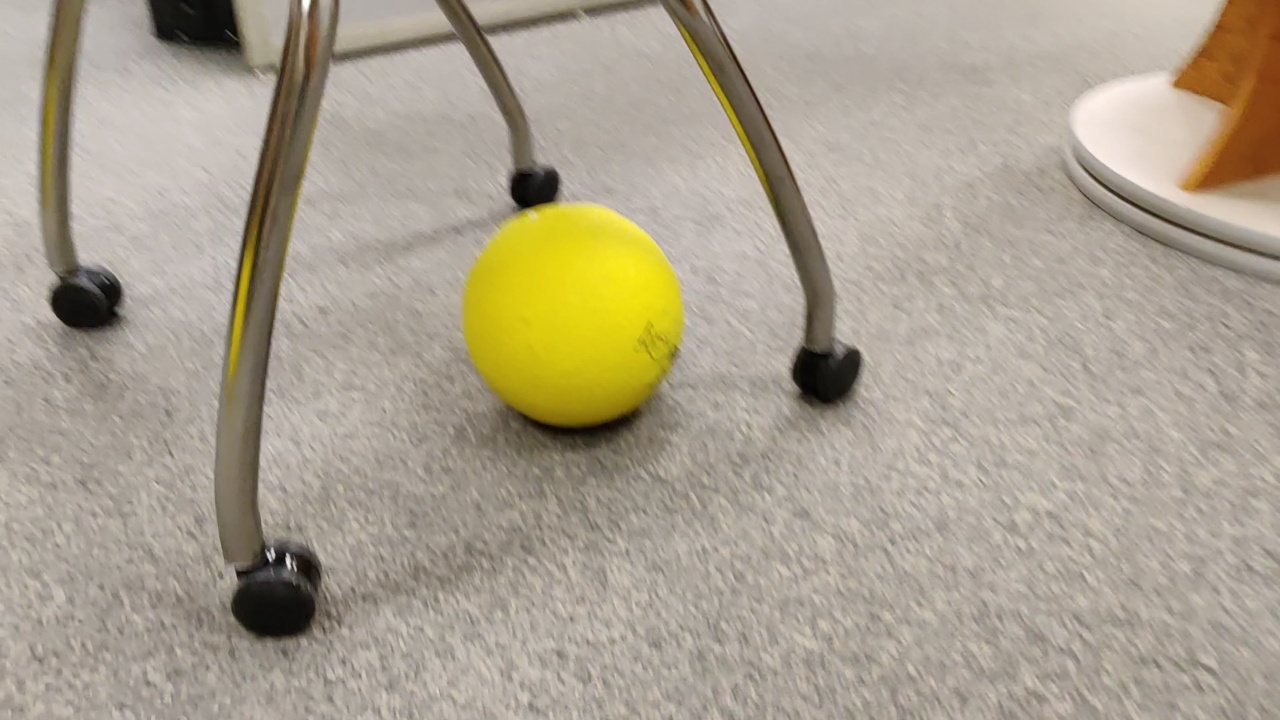Ball: (452, 200, 689, 433)
